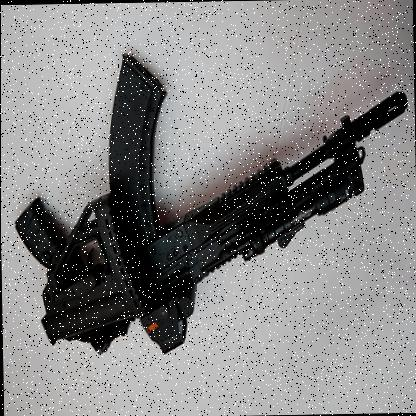rifle: (21, 33, 413, 382)
